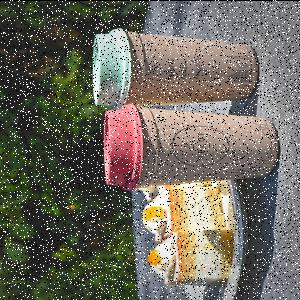Cup: (103, 104, 281, 192), (92, 28, 260, 107)
